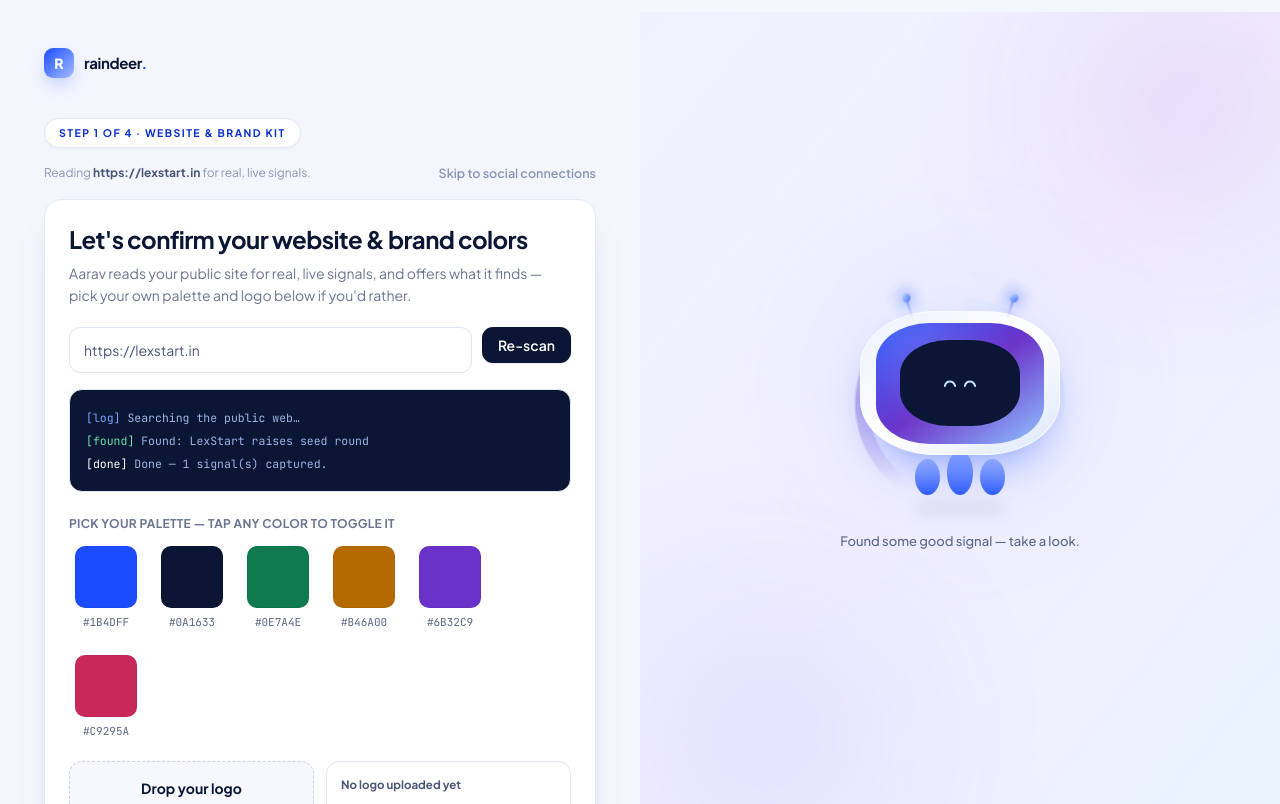
OnboardingInterviewPage › saves manually-picked brand colors via updateBrand when advancing past the fixed page
This screenshot has width=1280, height=804.
Expected: the heading "Let's confirm your website & brand colors" is shown, [69,224,571,254]
Click the button with aria-label "Toggle color #1B4DFF": (106, 588) [69,540,143,636]
(page scrolled)
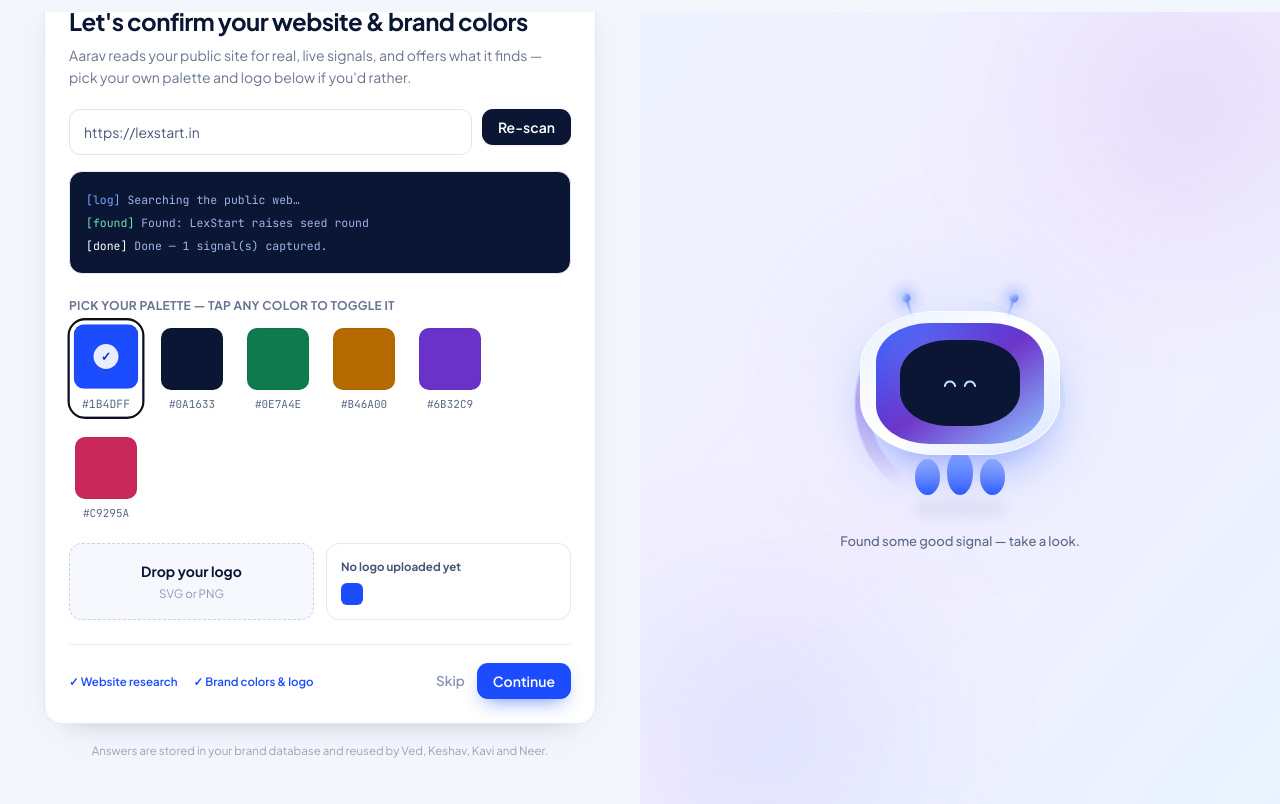
Click the button "Continue": (524, 681) [477,663,571,699]
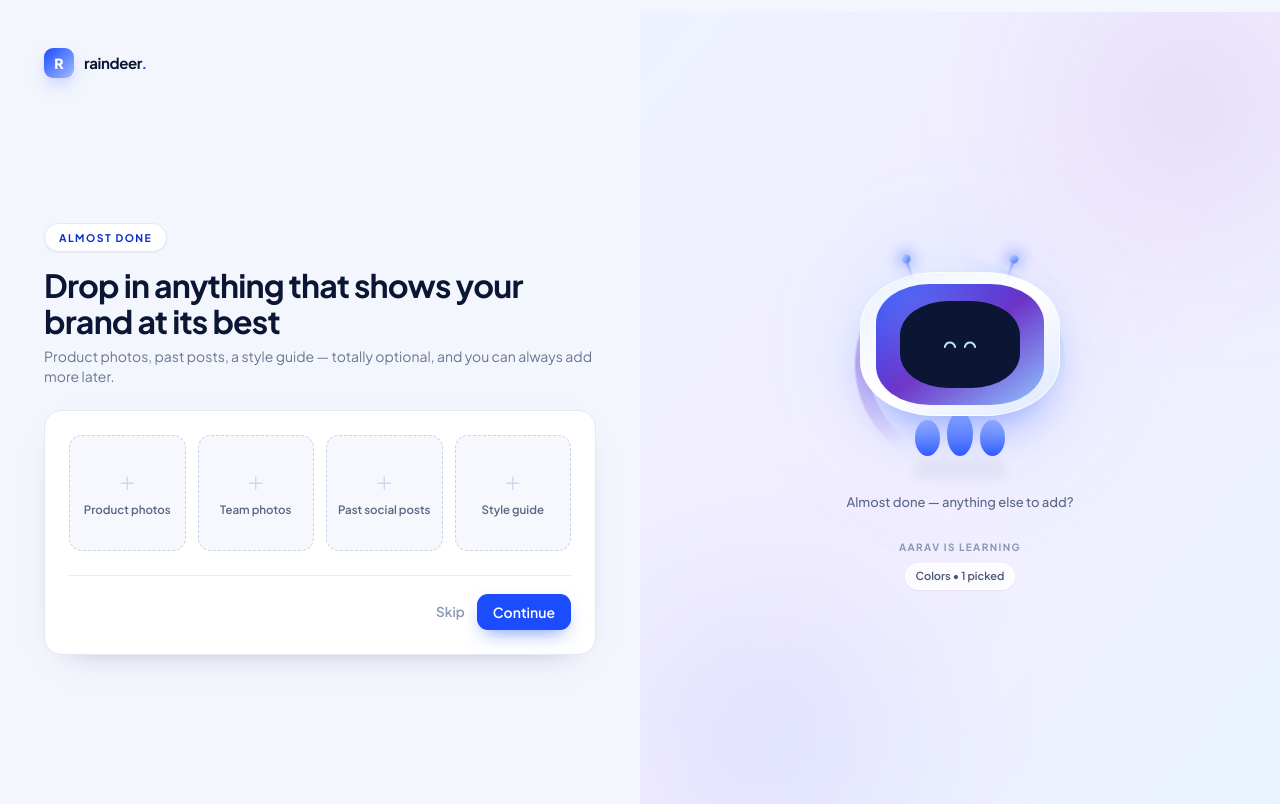
Result: the heading "Drop in anything that shows your brand at its best" is shown at [44,268,596,340]
